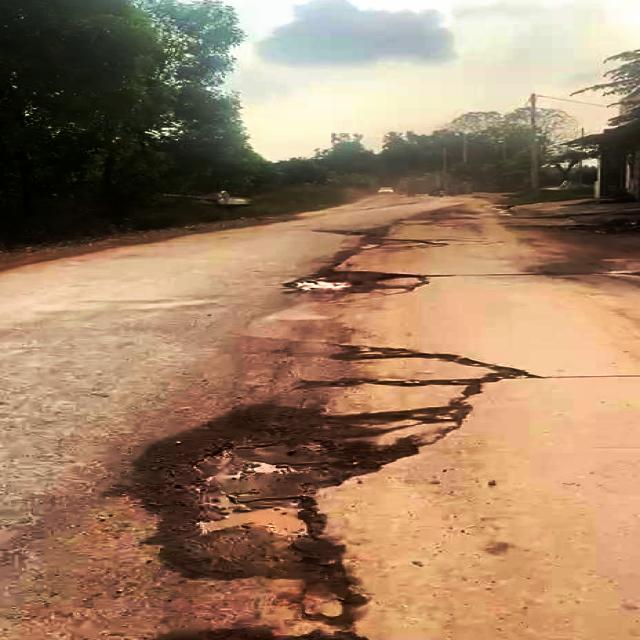pothole: (164, 397, 487, 500), (182, 531, 371, 627), (282, 267, 412, 297)
